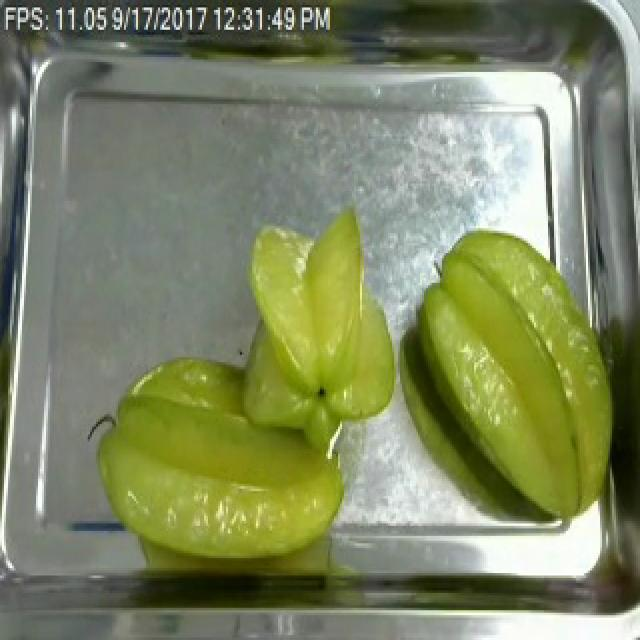fruit: (410, 223, 628, 536), (82, 345, 354, 578), (230, 206, 406, 434)
